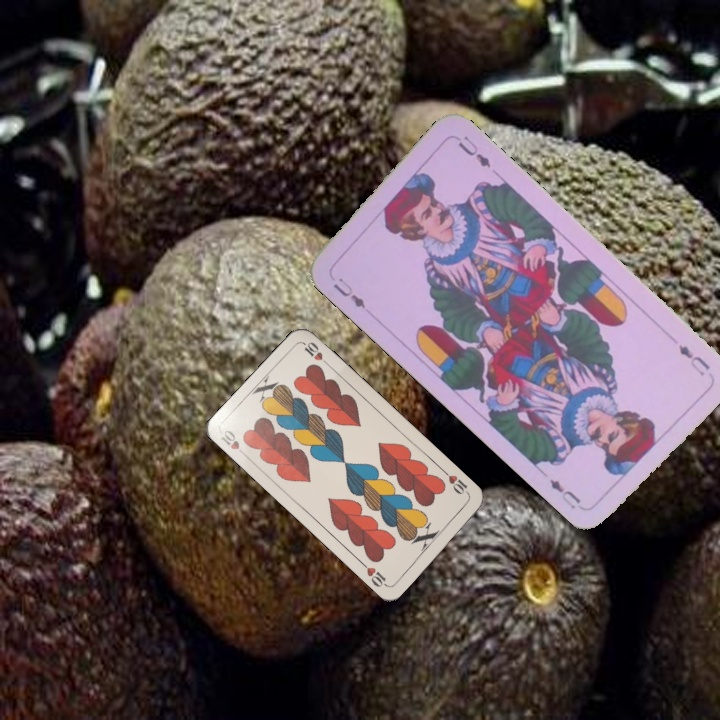EU: (674, 340, 713, 379), (328, 273, 368, 311)
H10: (216, 426, 250, 460), (439, 467, 472, 498)
